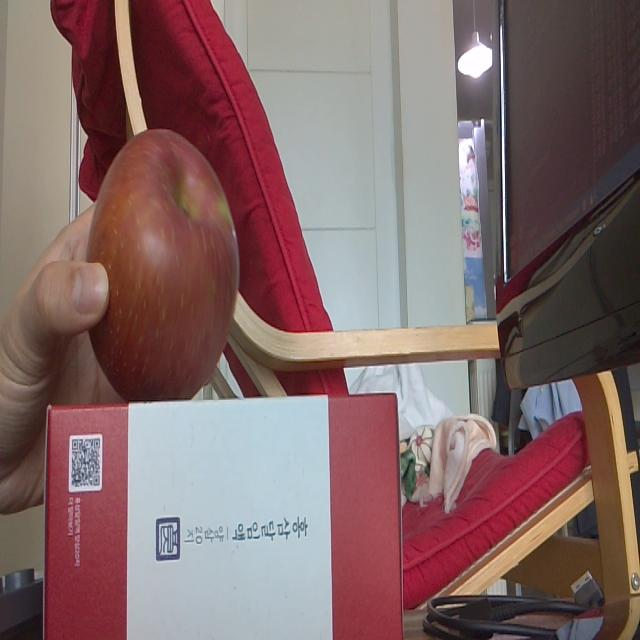apple: (86, 127, 241, 399)
